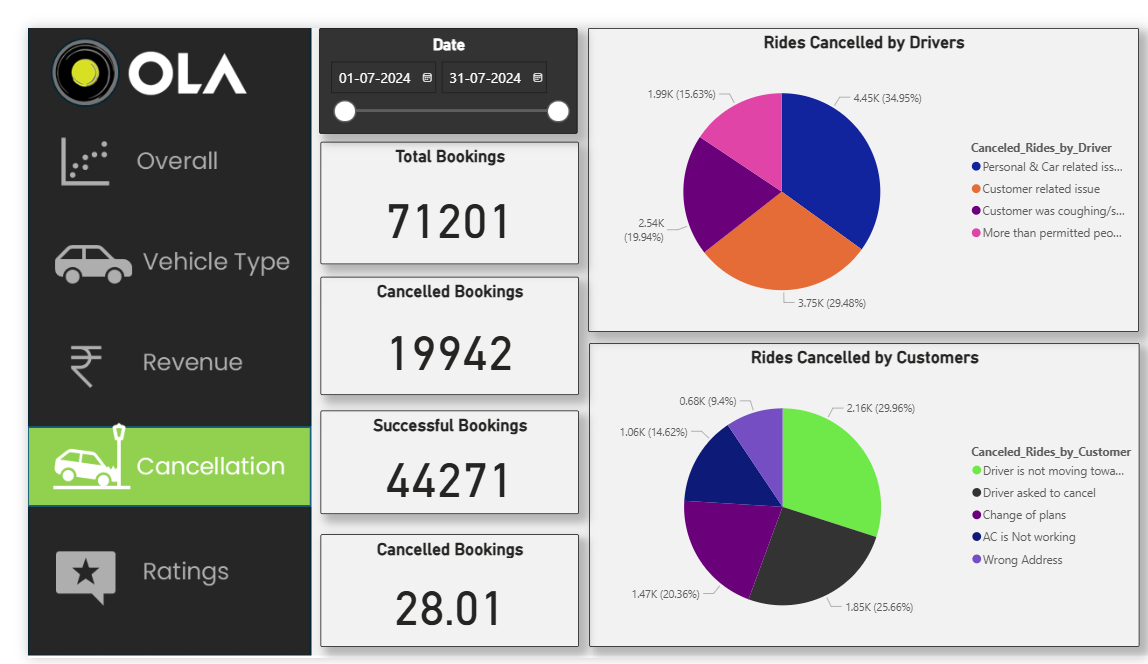

Layout of this report page (visuals, bound fields, positions):
{"tool":"powerbi","page":{"name":"Cancellation","canvas":[1280,720],"ordinal":3},"visuals":[{"type":"actionButton","box":[0,222.1,322.7,95.7],"z":0},{"type":"actionButton","box":[0,338.7,322.7,90.8],"z":1000},{"type":"actionButton","box":[0,455.6,322.5,90.6],"z":2000},{"type":"actionButton","box":[0,579.1,322.7,90.8],"z":3000},{"type":"actionButton","box":[0,102.9,322.5,96.1],"z":4000},{"type":"pieChart","title":"Rides Cancelled by Drivers","fields":{"Category":["Bookings.Canceled_Rides_by_Driver"],"Y":["CountNonNull(Bookings.Canceled_Rides_by_Driver)"]},"box":[639.5,0,629.8,347.2],"z":5000},{"type":"pieChart","title":"Rides Cancelled by Customers","fields":{"Category":["Bookings.Canceled_Rides_by_Customer"],"Y":["CountNonNull(Bookings.Canceled_Rides_by_Customer)"]},"box":[641.2,360,628.8,347.5],"z":6000},{"type":"slicer","title":"Date","fields":{"Values":["Bookings.Date"]},"box":[333.4,0,295,120.8],"z":7000},{"type":"card","title":"Total Bookings","fields":{"Values":["Count(Bookings.Booking_ID)"]},"box":[333.8,130,295,140],"z":8000},{"type":"card","title":"Successful Bookings","fields":{"Values":["Count(Bookings.Booking_ID)"]},"box":[333.8,437.5,295,118.8],"z":9000},{"type":"card","title":"Cancelled Bookings","fields":{"Values":["Count(Bookings.Booking_ID)"]},"box":[333.8,283.8,295,135],"z":10000},{"type":"card","title":"Cancelled Bookings","fields":{"Values":["Bookings.Cancelled_Percentage"]},"box":[333.8,578.8,295,128.8],"z":11000}]}

Visuals, with their boxes in screenshot pixels (x1, y1, x2, y2), scaled from the page's 1280x720 canvas onto the 1148x664 screenshot:
actionButton: [left=0, top=205, right=289, bottom=293]
actionButton: [left=0, top=312, right=289, bottom=396]
actionButton: [left=0, top=420, right=289, bottom=504]
actionButton: [left=0, top=534, right=289, bottom=618]
actionButton: [left=0, top=95, right=289, bottom=184]
"Rides Cancelled by Drivers" pieChart: [left=574, top=0, right=1138, bottom=320]
"Rides Cancelled by Customers" pieChart: [left=575, top=332, right=1139, bottom=652]
"Date" slicer: [left=299, top=0, right=564, bottom=111]
"Total Bookings" card: [left=299, top=120, right=564, bottom=249]
"Successful Bookings" card: [left=299, top=403, right=564, bottom=513]
"Cancelled Bookings" card: [left=299, top=262, right=564, bottom=386]
"Cancelled Bookings" card: [left=299, top=534, right=564, bottom=653]
